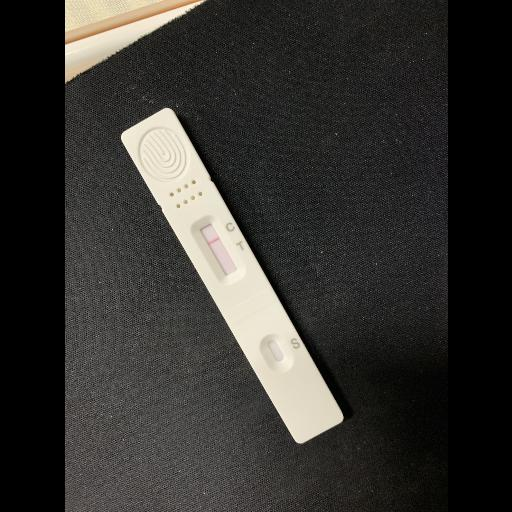Neg: (119, 104, 347, 446)
